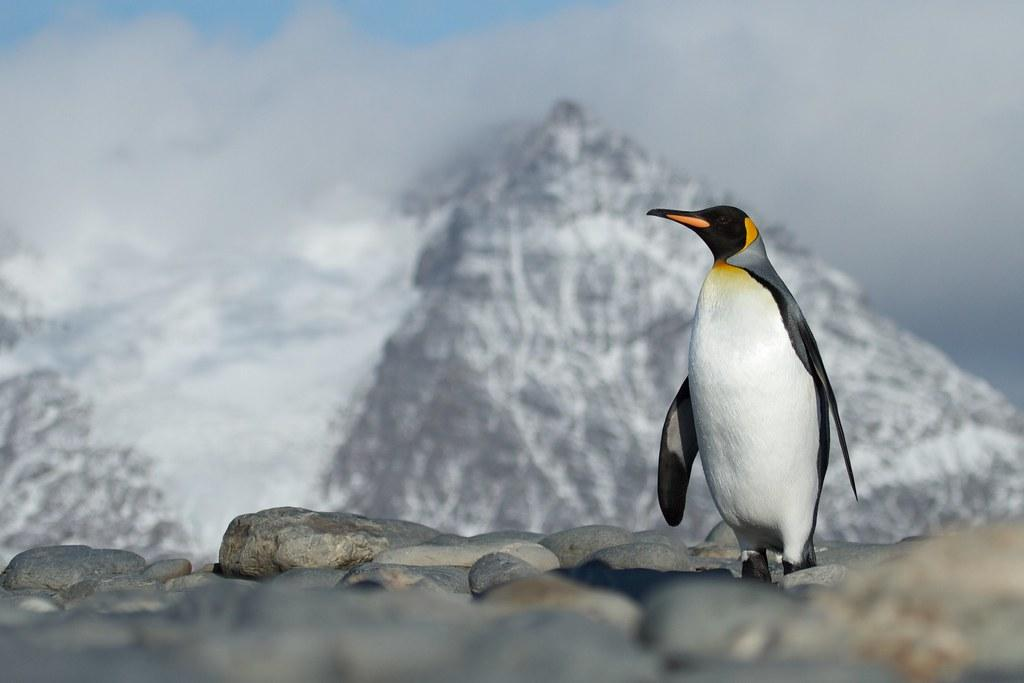king: (475, 196, 944, 599)
